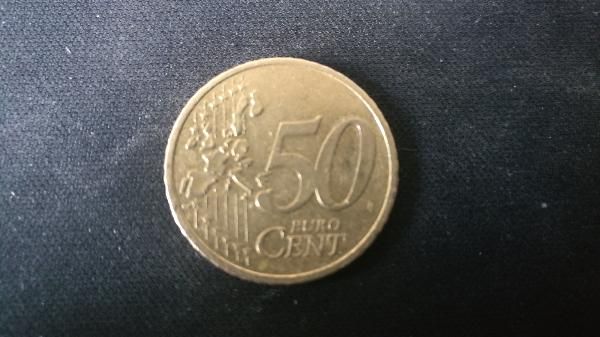Fifty Cent: (161, 52, 418, 289)
